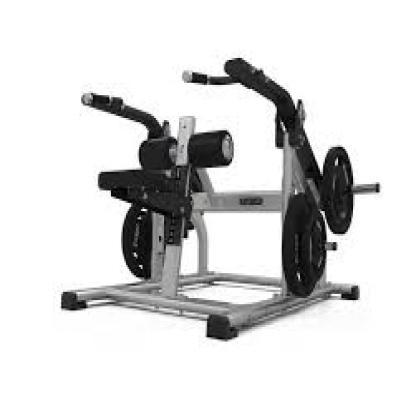seated dip machine: (60, 55, 380, 341)
